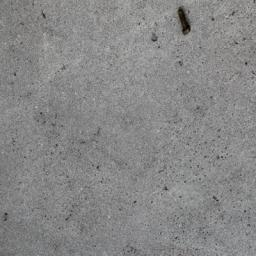FOD: (175, 8, 193, 37)
